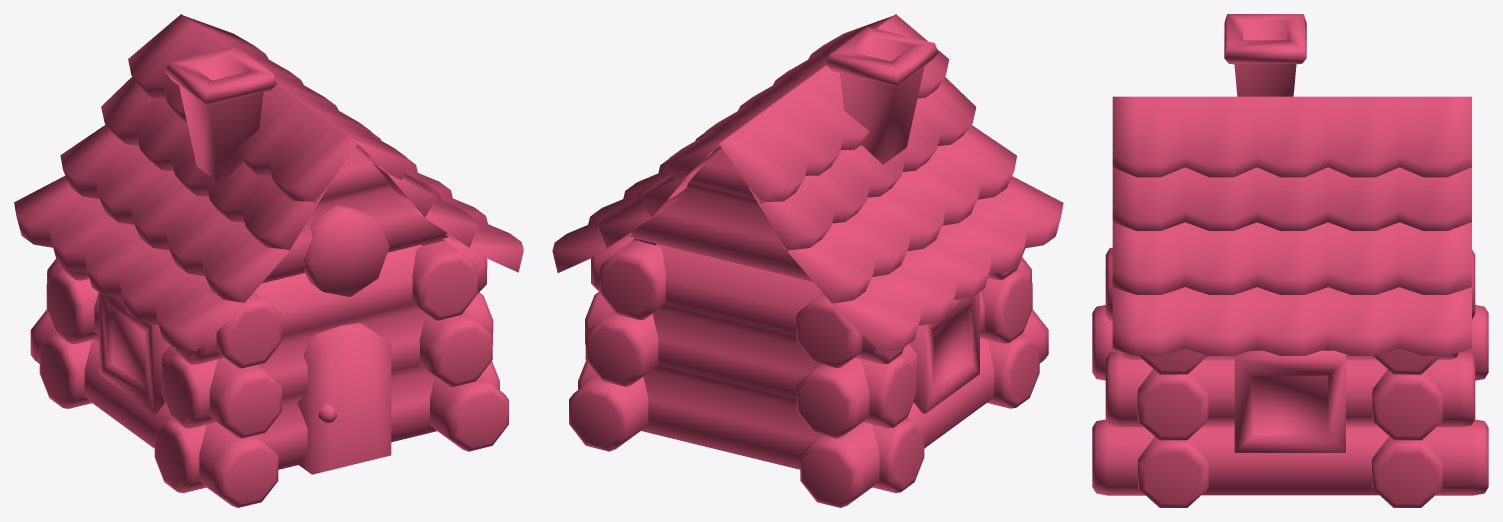
File: SM_Refuge_01_LOD0.fbx
3 renders of one model, left to right at view 1: azimuth 30°, elevation 25°; view 2: azimuth 150°, elevation 25°; view 3: azimuth 270°, elevation 25°, orthographic.
Parts seen in each view (by area): view 1: SM_Refuge_01_LOD0; view 2: SM_Refuge_01_LOD0; view 3: SM_Refuge_01_LOD0.
Boxes of the visible parts, x1,y1,x2,y2 form: SM_Refuge_01_LOD0: (14,14,523,507); SM_Refuge_01_LOD0: (552,14,1063,507); SM_Refuge_01_LOD0: (1092,14,1488,507).
Size of the model in its own units: 582 by 576 by 557.
